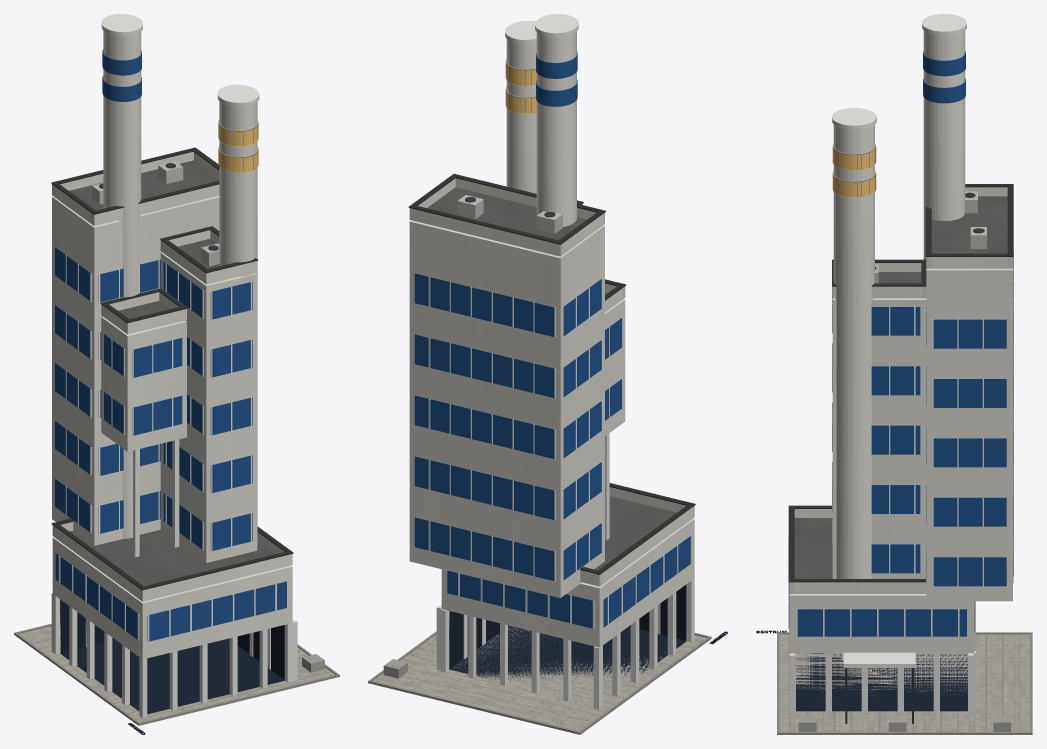
File: dum_11_kancelare_moderni.glb
The picture shows the model from 3 angles, left to right: view 1: azimuth 30°, elevation 25°; view 2: azimuth 150°, elevation 25°; view 3: azimuth 270°, elevation 25°; orthographic projection. The views are drawn at different scales.
Visible parts, largest first — view 1: dum, noc; view 2: dum, noc; view 3: dum, noc.
Boxes of the visible parts, x1=… form: dum: x1=14, y1=14, x2=339, y2=734; noc: x1=218, y1=120, x2=258, y2=172; dum: x1=368, y1=14, x2=727, y2=734; noc: x1=505, y1=59, x2=536, y2=113; dum: x1=756, y1=14, x2=1032, y2=734; noc: x1=832, y1=144, x2=876, y2=197.
Bounding box in the file's own units: 13.08 × 37.88 × 14.74.
1 material, 1 textured.
